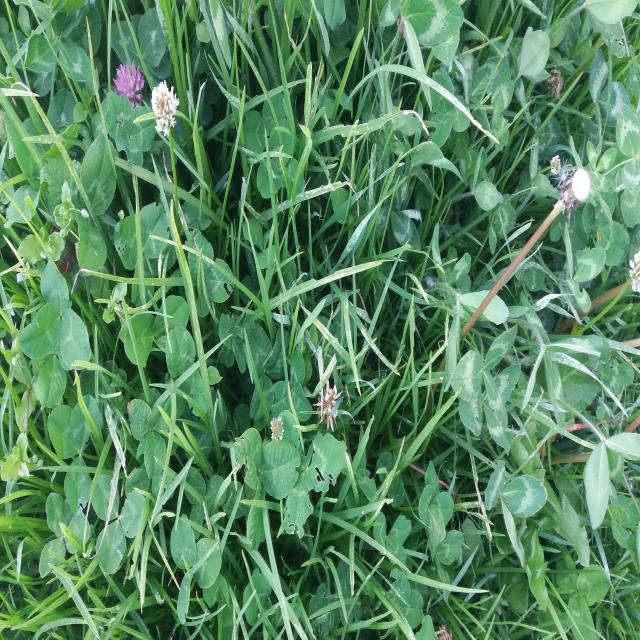Four Leaf Clover: (418, 460, 453, 548)
